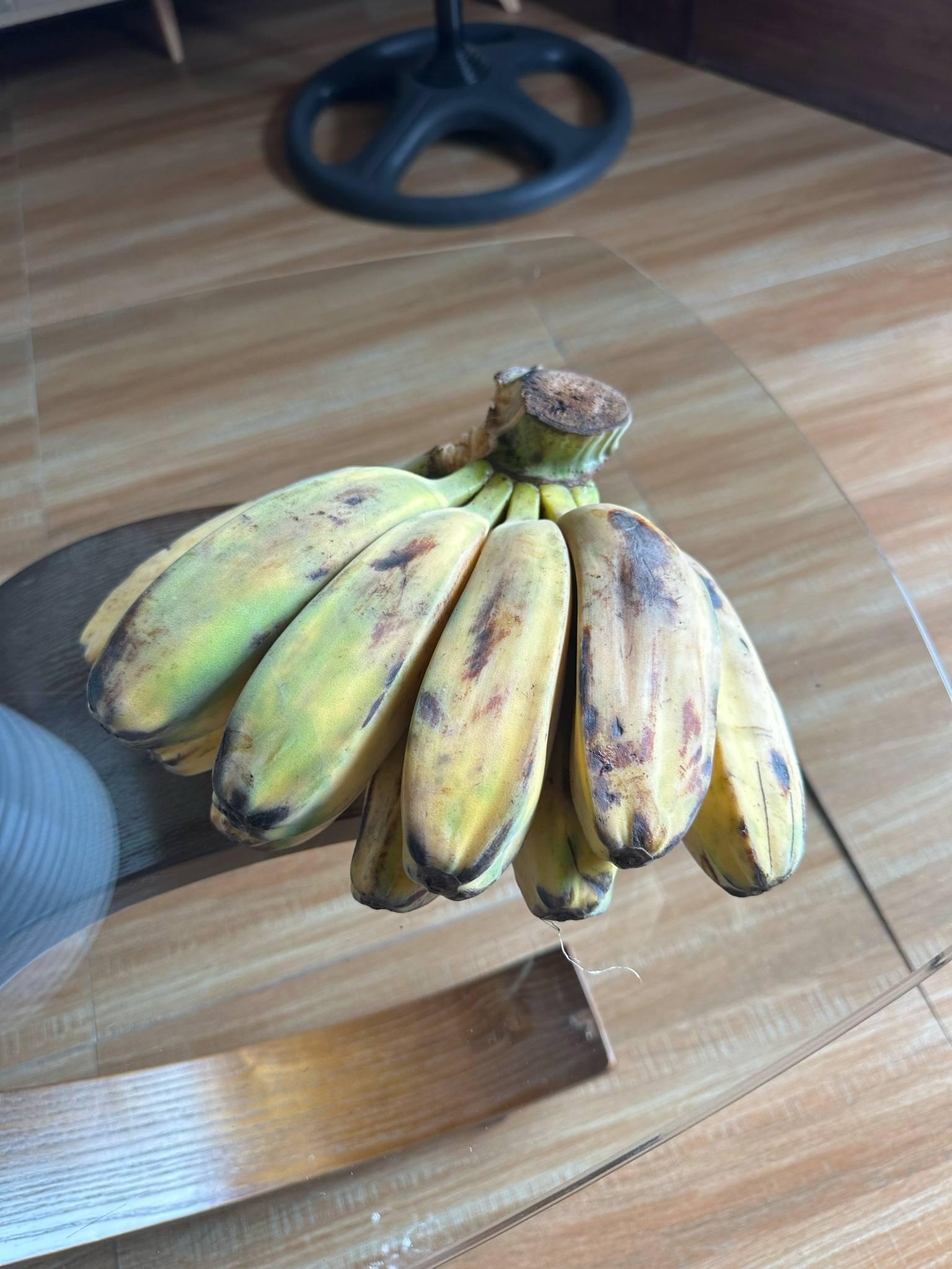underripe: (82, 468, 805, 918)
